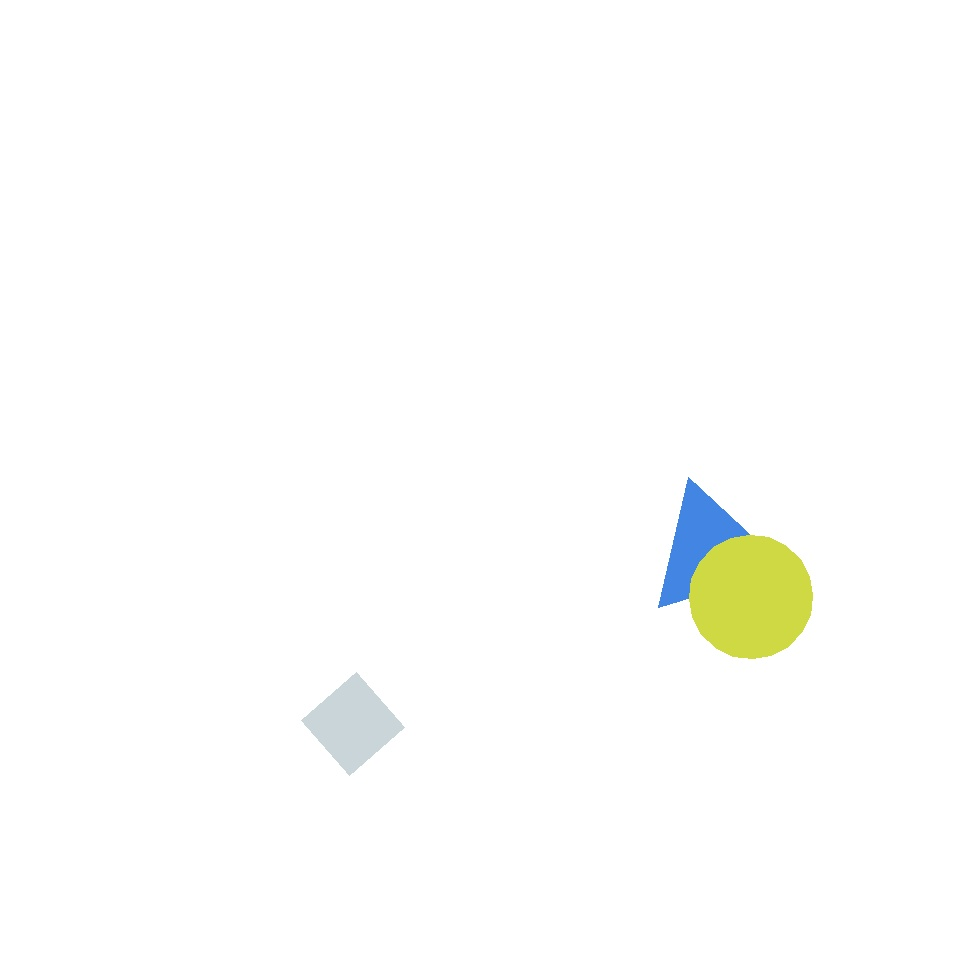circle: (647, 486, 775, 616)
square: (62, 426, 255, 620), (302, 672, 404, 775)
triangle: (31, 94, 162, 224), (690, 535, 813, 658), (470, 136, 584, 248)
